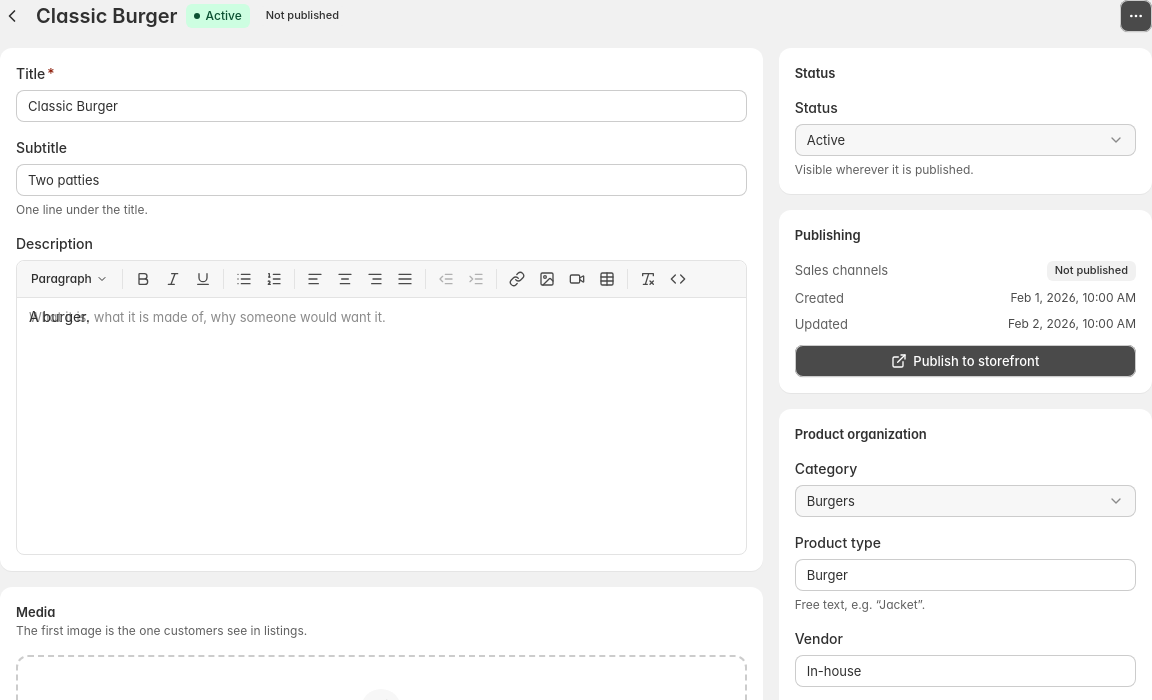
Scenario: ProductEditPage › archives through the archive endpoint, behind a confirmation
Click the button named "More actions". click: (1136,16)
box: left=1120, top=0, right=1151, bottom=32
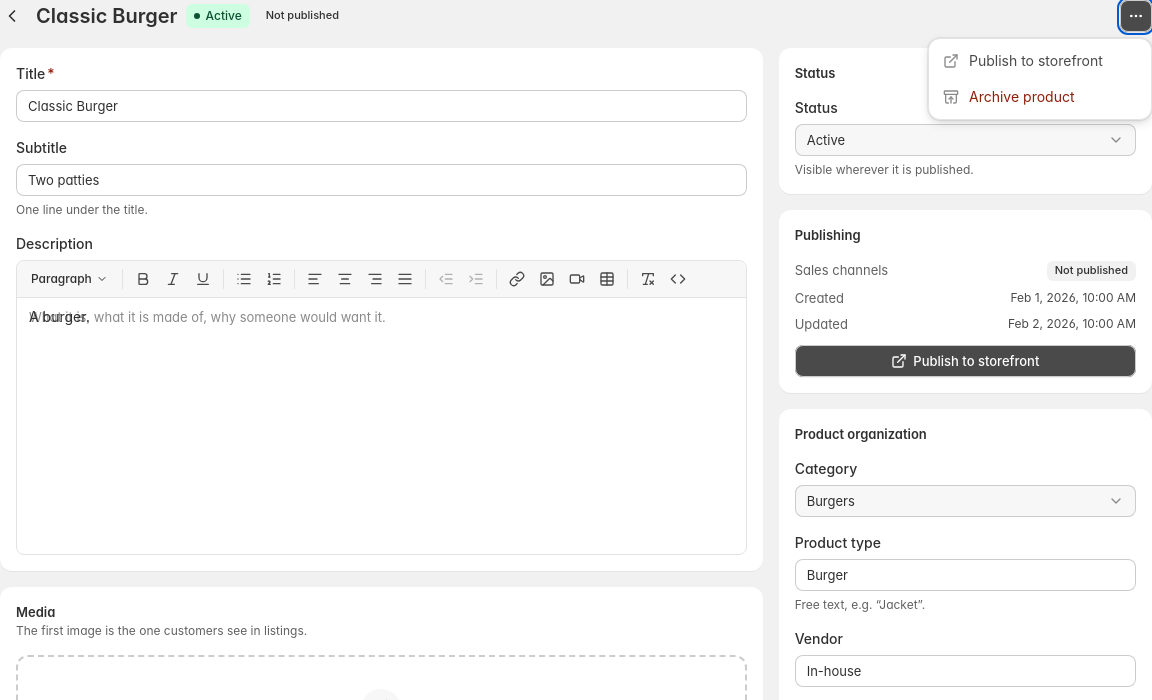
Click the menu item "Archive product". click: (1040,97)
box: left=933, top=79, right=1147, bottom=115
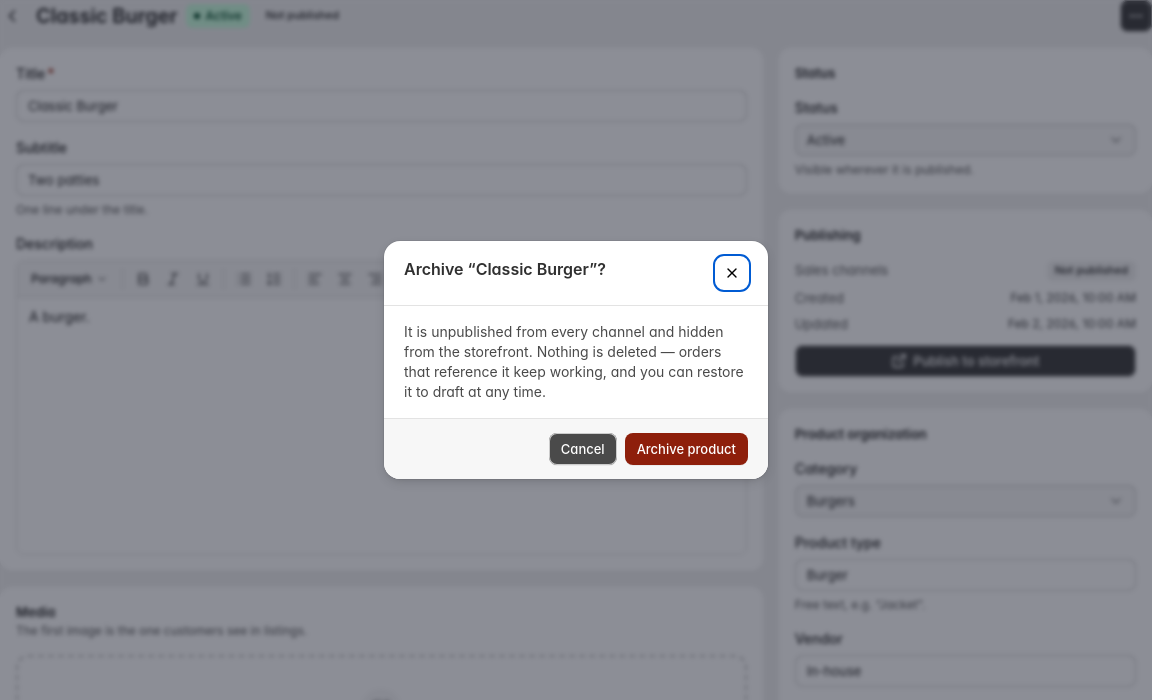
Click the button "Archive product". click: (686,449)
box: left=625, top=433, right=748, bottom=465
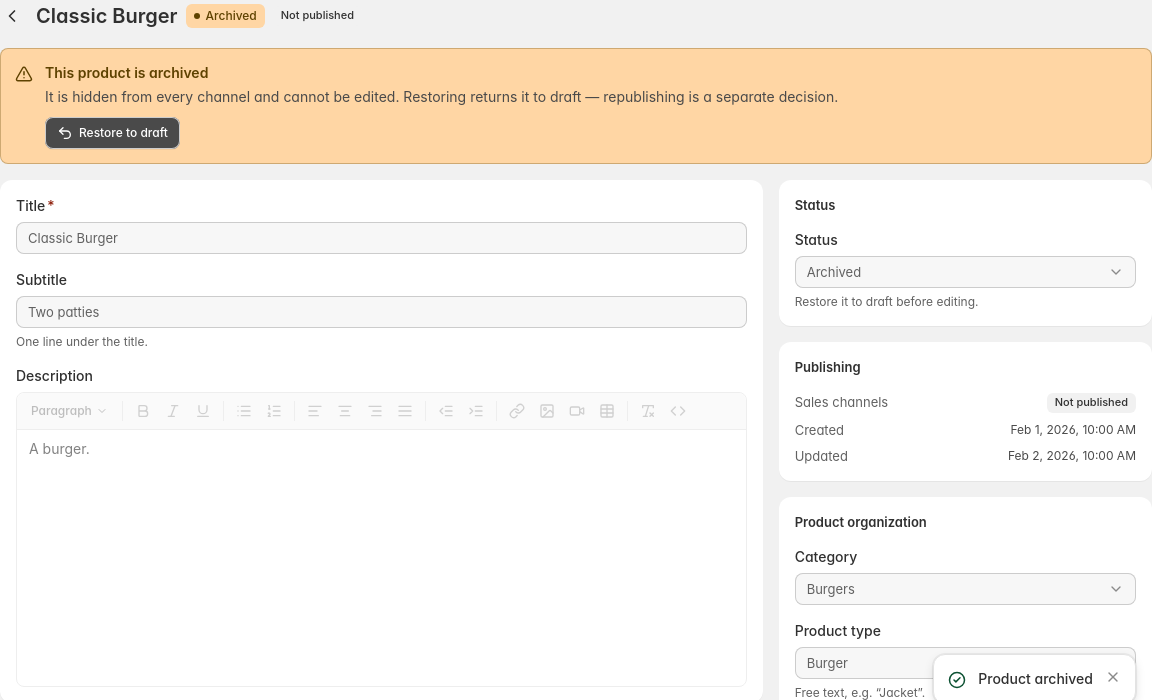
expect the text "This product is archived" is shown: met, box left=45, top=64, right=208, bottom=81
